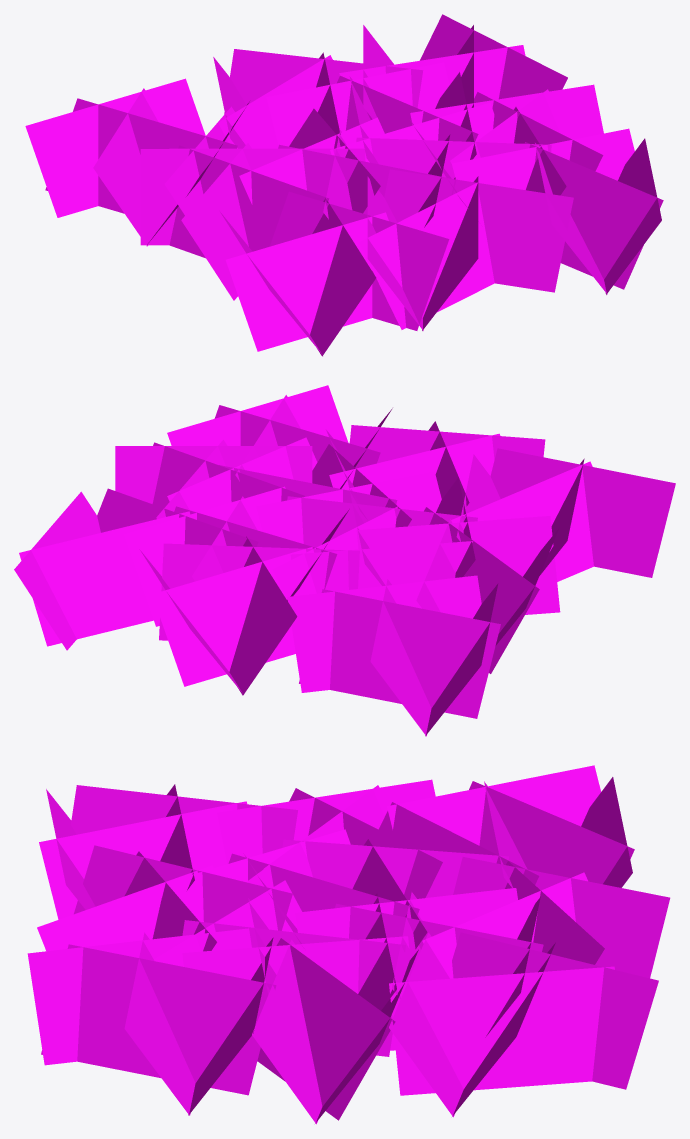
The model's file is grass_large_1.glb.
The picture shows the model from 3 angles, top to bottom: view 1: azimuth 30°, elevation 25°; view 2: azimuth 150°, elevation 25°; view 3: azimuth 270°, elevation 25°; orthographic projection. The views are drawn at different scales.
Parts seen in each view (by area): view 1: Plane017Mesh_001-mesh; view 2: Plane017Mesh_001-mesh; view 3: Plane017Mesh_001-mesh.
Part boxes in pixels (left/top/right/bottom): Plane017Mesh_001-mesh: left=25, top=14, right=663, bottom=356; Plane017Mesh_001-mesh: left=14, top=385, right=675, bottom=736; Plane017Mesh_001-mesh: left=27, top=765, right=670, bottom=1124.
Bounding box in the file's own units: 26.47 × 3.7 × 26.09.
